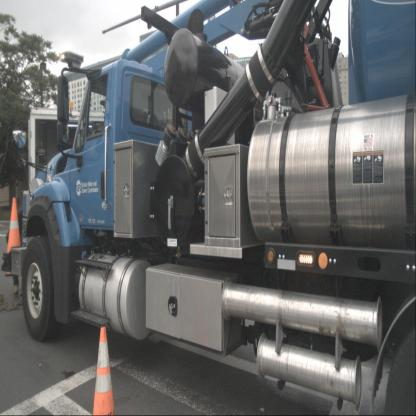movable_object-trafficcone: (93, 326, 116, 416), (5, 197, 24, 276)
